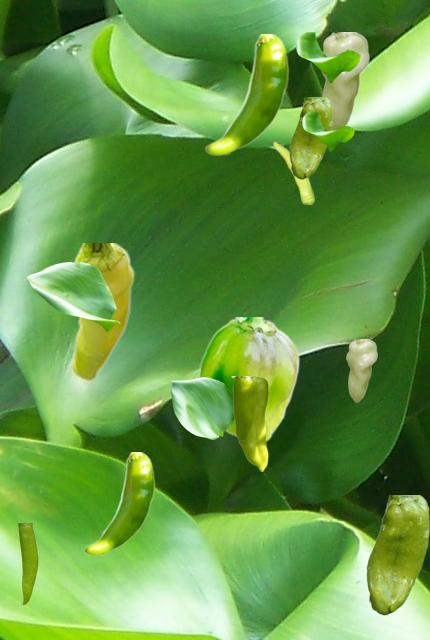green_chili: (198, 317, 299, 442), (204, 34, 288, 155), (70, 243, 134, 381), (366, 495, 428, 614), (83, 452, 154, 555), (321, 32, 368, 129), (289, 97, 331, 178), (231, 376, 267, 470), (273, 141, 313, 203), (345, 339, 376, 401), (17, 523, 37, 604)
